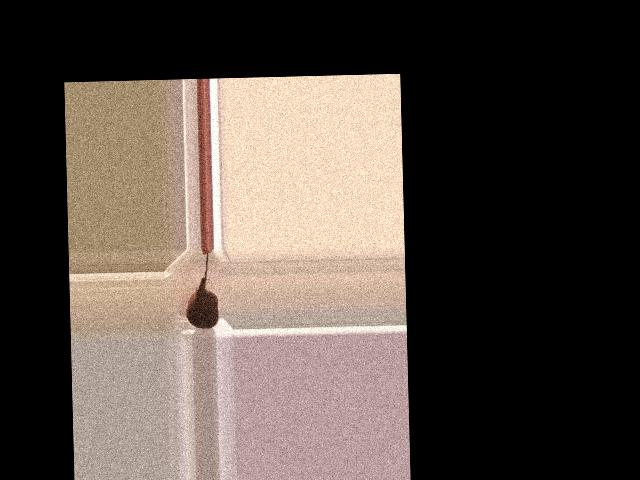beet: (184, 251, 218, 329)
